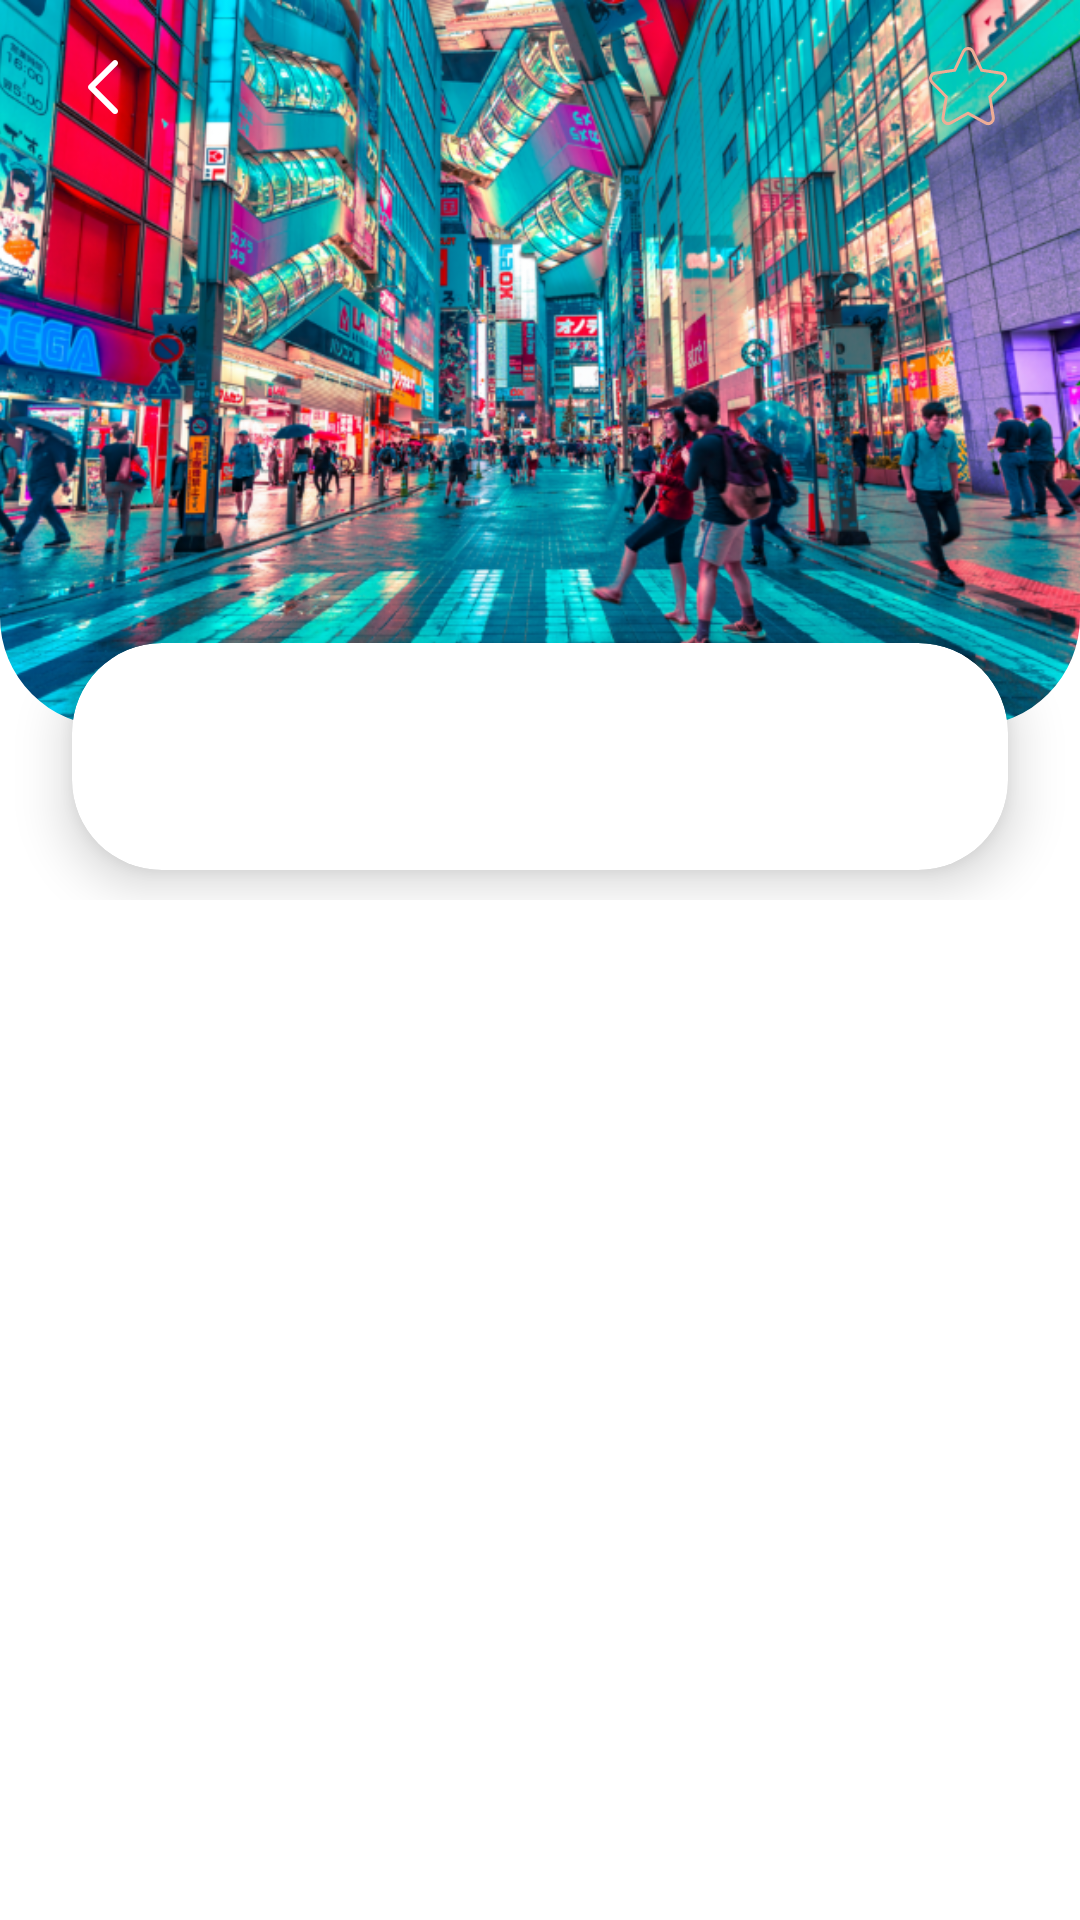

Screen size 1080px x 1920px. Icon name, then its center in pixels as [x,y]:
back arrow: [103,87]
favorites: [968,86]
